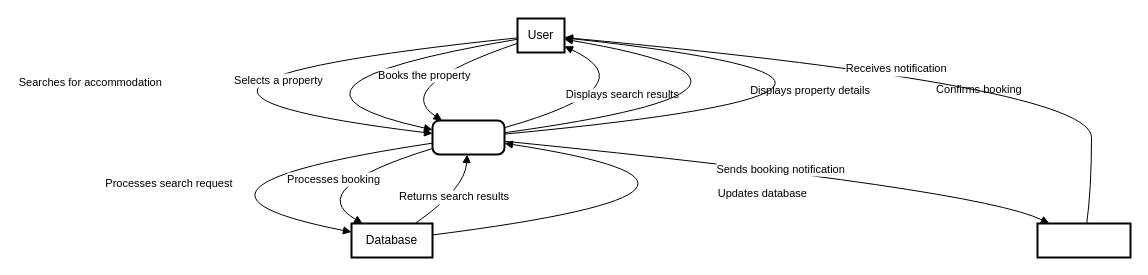
Some shapes in this 1148 by 275 pixel diagram are drawn without their labels. The centre of each missing label's shape, as x and y in pixels:
"Mobile App" belongs at (1083,240).
"Website" belongs at (468,137).
